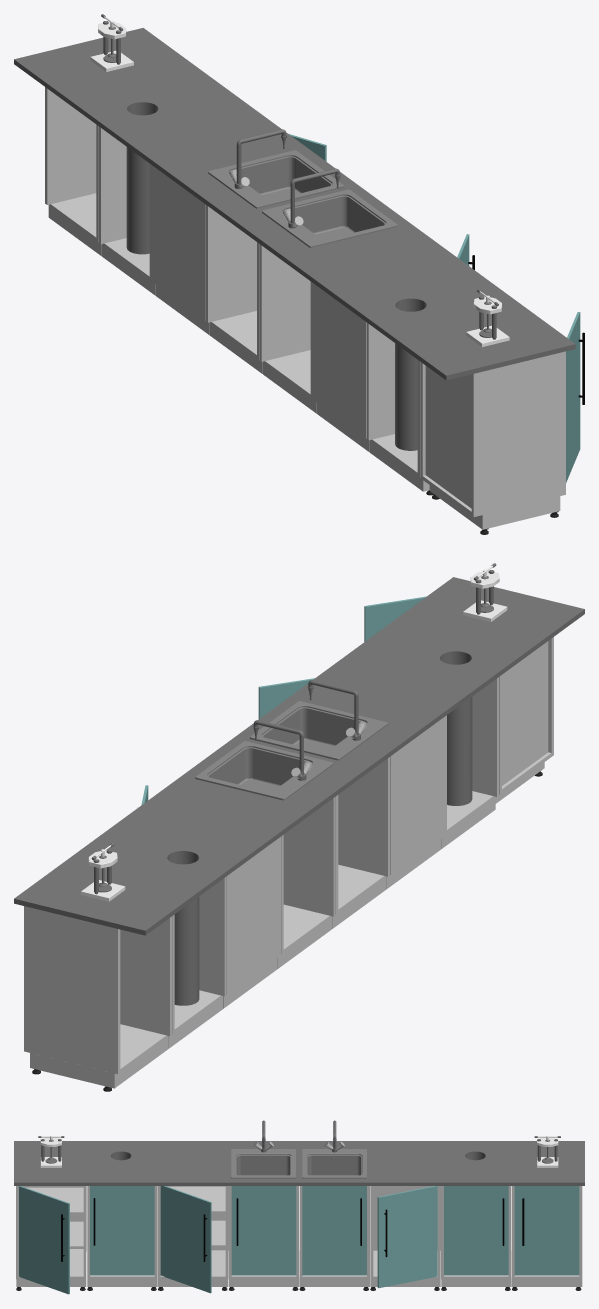
The model's file is medi.FBX.
3 views of the same model, one above another, from view 1: azimuth 30°, elevation 25°; view 2: azimuth 150°, elevation 25°; view 3: azimuth 270°, elevation 25° (orthographic). The views are drawn at different scales.
Visible parts, largest first — view 1: Box012, Box004, Box051, Box055, Box058, Box020, Box040, Box025, Rectangle01, Rectangle002, Box035, Box008 (+11 smaller); view 2: Box012, Box040, Box055, Box051, Box042, Box058, Box027, Box022, Rectangle002, Rectangle01, Box044, Box037 (+11 smaller); view 3: Box012, Plane008, Plane004, Plane007, Plane005, Plane002, Box054, Box050, Box059, Rectangle002, Rectangle01, Box052 (+36 smaller).
Part boxes in pixels (bbox=[...]): Box012: bbox=[14, 28, 575, 380]; Box004: bbox=[471, 351, 565, 516]; Box051: bbox=[312, 283, 366, 438]; Box055: bbox=[152, 165, 205, 320]; Box058: bbox=[425, 366, 471, 508]; Box020: bbox=[259, 244, 310, 361]; Box040: bbox=[45, 87, 96, 204]; Box025: bbox=[206, 205, 256, 322]; Rectangle01: bbox=[262, 189, 397, 247]; Rectangle002: bbox=[208, 150, 343, 208]; Box035: bbox=[98, 126, 126, 244]; Box008: bbox=[366, 322, 394, 440]; Box012: bbox=[14, 577, 584, 935]; Box040: bbox=[24, 906, 120, 1074]; Box055: bbox=[226, 836, 281, 994]; Box051: bbox=[390, 717, 444, 874]; Box042: bbox=[120, 916, 172, 1036]; Box058: bbox=[502, 641, 548, 785]; Box027: bbox=[283, 797, 335, 916]; Box022: bbox=[338, 757, 389, 876]; Rectangle002: bbox=[195, 741, 333, 800]; Rectangle01: bbox=[250, 701, 388, 760]; Box044: bbox=[30, 1024, 168, 1088]; Box037: bbox=[199, 876, 226, 996]; Box012: bbox=[14, 1141, 584, 1185]; Plane008: bbox=[514, 1186, 579, 1275]; Plane004: bbox=[231, 1186, 296, 1275]; Plane007: bbox=[444, 1186, 508, 1275]; Plane005: bbox=[302, 1186, 366, 1275]; Plane002: bbox=[90, 1186, 154, 1275]; Box054: bbox=[377, 1186, 437, 1288]; Box050: bbox=[160, 1186, 211, 1293]; Box059: bbox=[19, 1186, 69, 1294]; Rectangle002: bbox=[302, 1149, 366, 1178]; Rectangle01: bbox=[231, 1149, 295, 1178]; Box052: bbox=[168, 1186, 225, 1213].
Size of the model in its own units: 950 by 1135 by 4051.
